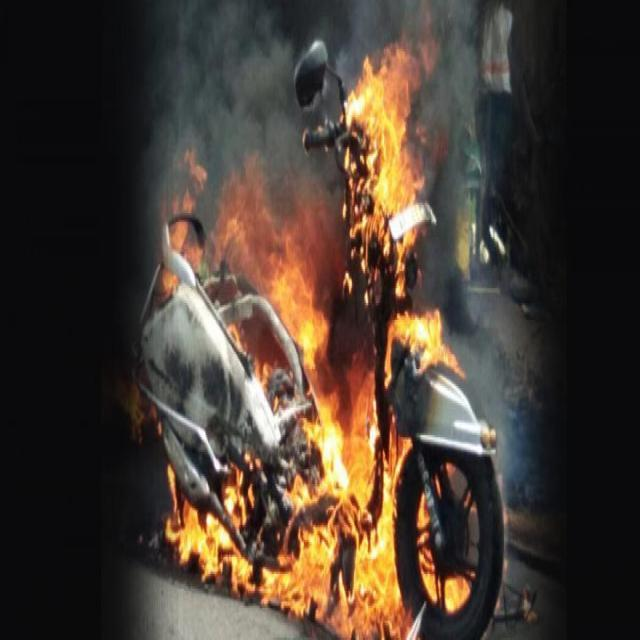Fire: (293, 432, 398, 634), (352, 44, 428, 300), (230, 185, 332, 368), (162, 494, 260, 597)
